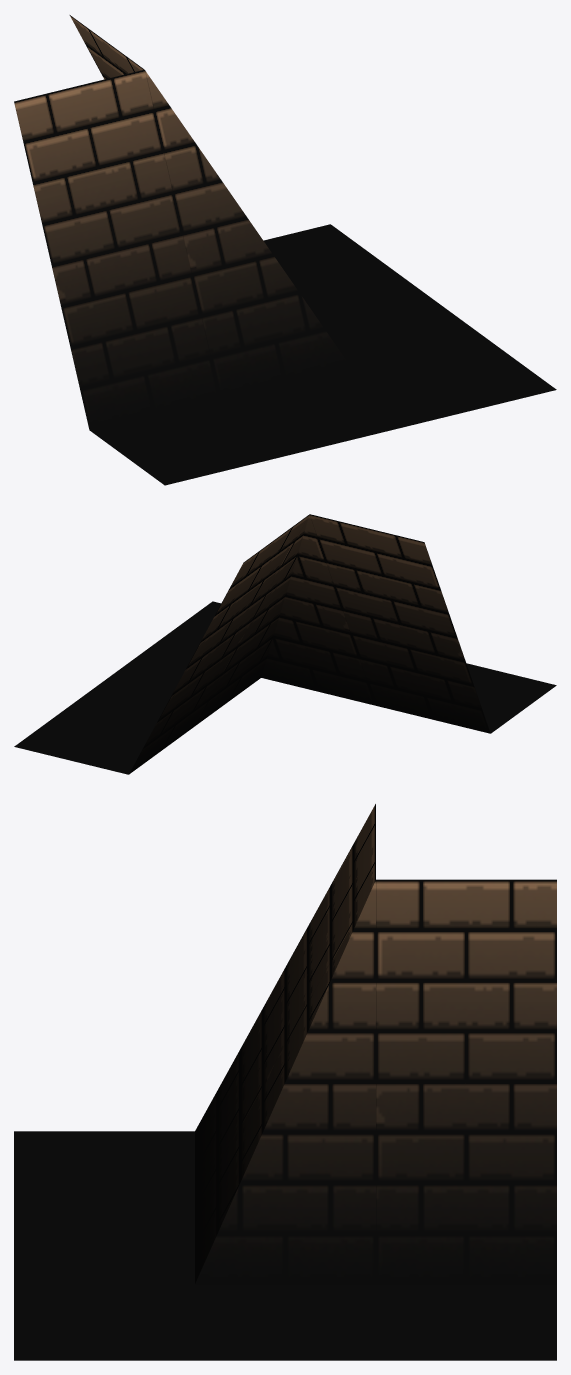
The model's file is wallMiniBottom_cornerOut.FBX.
3 views of the same model, one above another, from view 1: azimuth 30°, elevation 25°; view 2: azimuth 150°, elevation 25°; view 3: azimuth 270°, elevation 25° (orthographic). The views are drawn at different scales.
Visible parts, largest first — view 1: wallMiniBottom_cornerOut; view 2: wallMiniBottom_cornerOut; view 3: wallMiniBottom_cornerOut.
Boxes of the visible parts, x1,y1,x2,y2 form: wallMiniBottom_cornerOut: (14,15,556,485); wallMiniBottom_cornerOut: (14,514,556,774); wallMiniBottom_cornerOut: (14,804,556,1360).
Size of the model in its own units: 6 by 4 by 6.
Materials: 1 (1 with a texture image).
